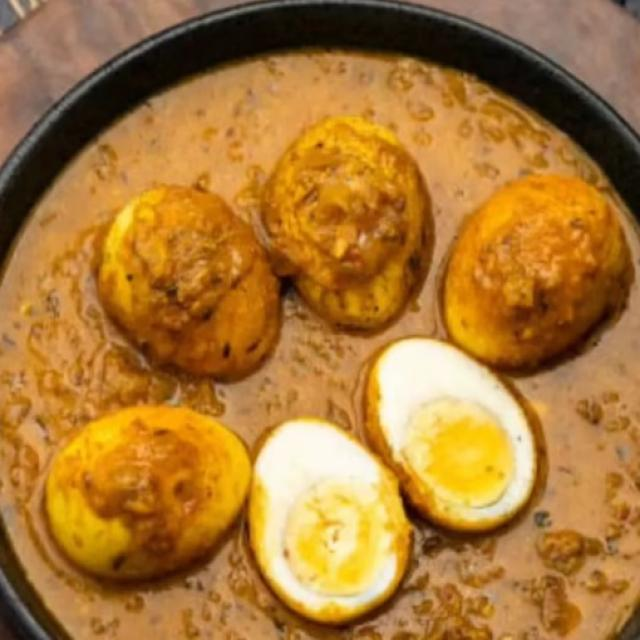EGG: (45, 174, 627, 621), (99, 117, 424, 378)
